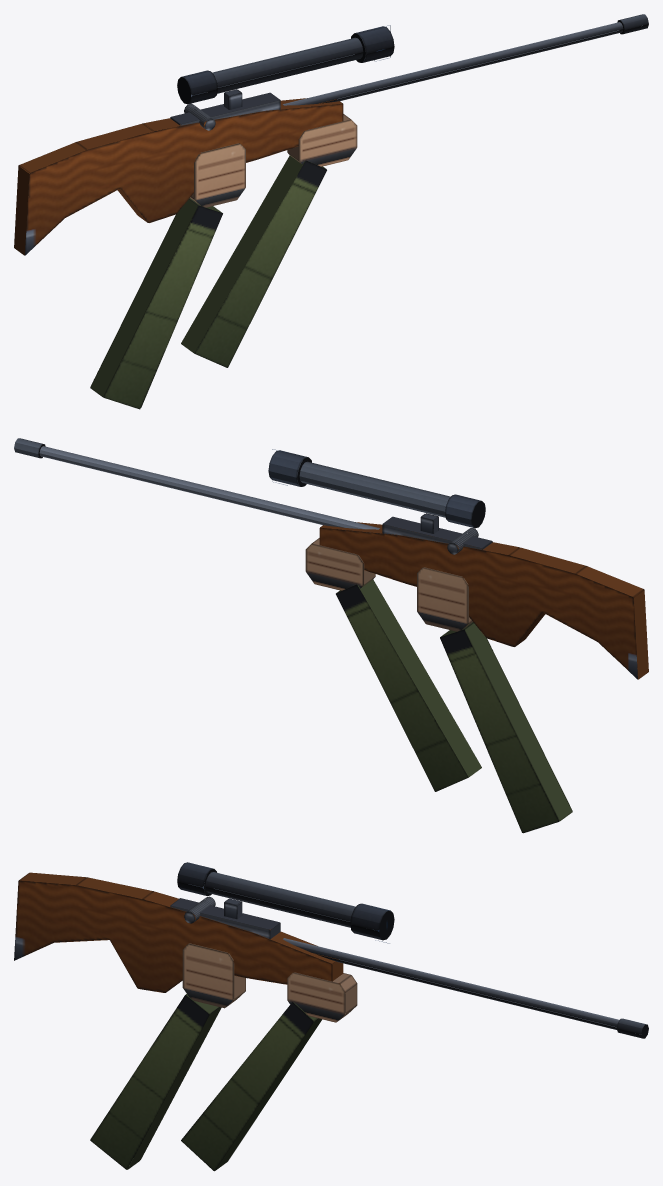
The model's file is sniper_fp_model.obj.
3 views of the same model, one above another, from view 1: azimuth 30°, elevation 25°; view 2: azimuth 150°, elevation 25°; view 3: azimuth 330°, elevation 25° (orthographic).
Bounding box in the file's own units: 56.2 × 27.2 × 3.2.
Materials: 1 (1 with a texture image).
